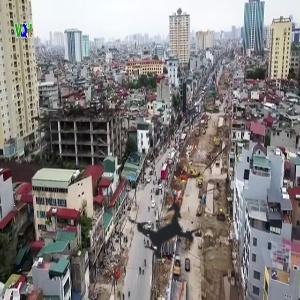drone: (103, 168, 226, 291)
